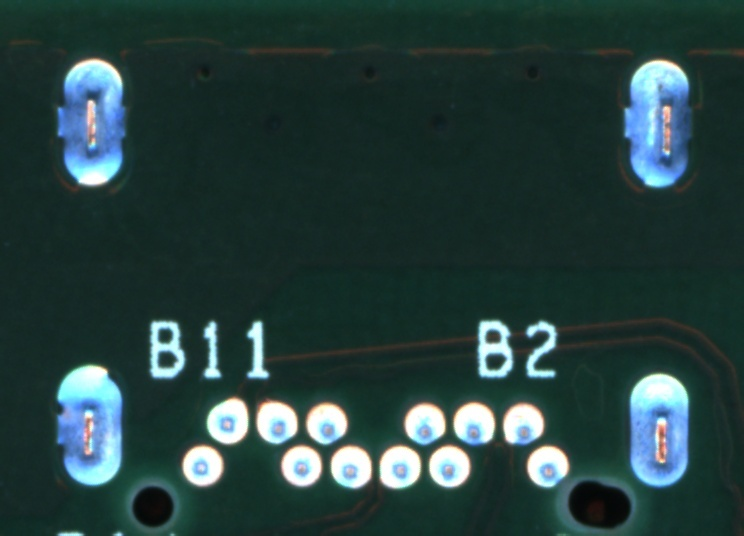SOLDER: (448, 397, 504, 449), (494, 397, 550, 449), (398, 397, 453, 449), (324, 441, 380, 492), (373, 442, 429, 493), (174, 440, 230, 491), (199, 394, 255, 445), (248, 396, 304, 447), (300, 398, 356, 449), (518, 440, 573, 491), (421, 442, 476, 493), (274, 441, 329, 492)
SOLDER2: (615, 356, 707, 504), (46, 51, 138, 198), (40, 352, 132, 499), (612, 50, 703, 197)
